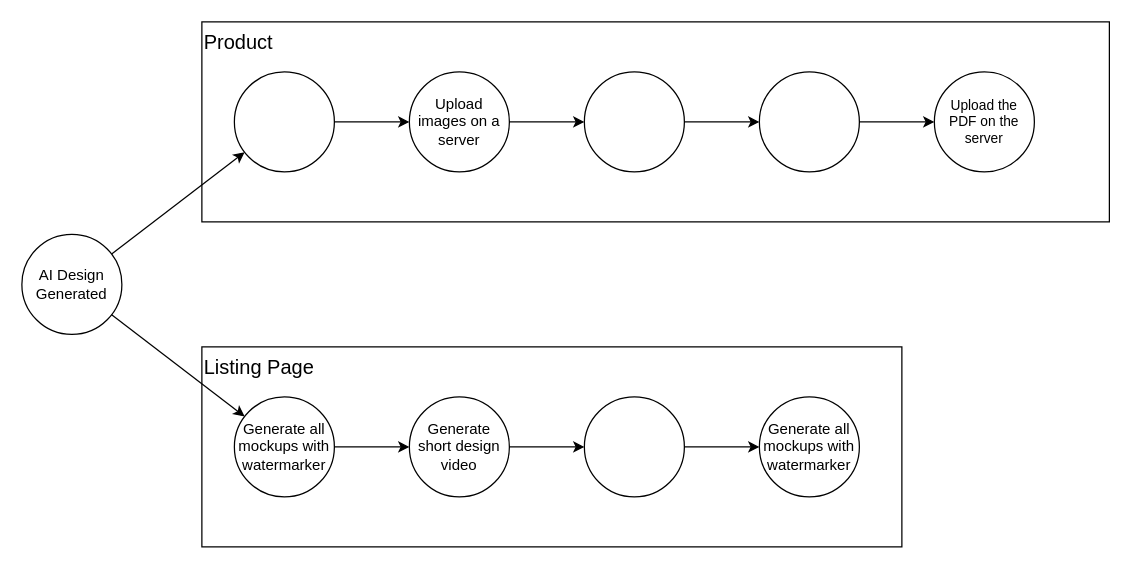
Some shapes in this 1131 by 569 pixel diagram are drawn without their labels. Each missing label, with the centre of its shape:
"Crop and Resize images in all formats" goes at (283,121).
"Generate the PDF with the download link & password" goes at (808,121).
"Get a password protected download link" goes at (633,121).
"Upload all of these png and mp4 files on the server" goes at (633,446).
